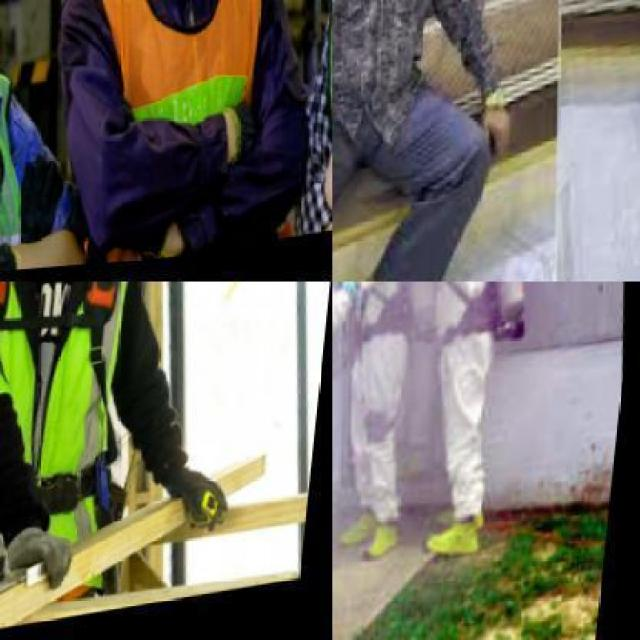vest: (0, 281, 175, 569), (406, 282, 540, 516), (332, 281, 442, 497)
